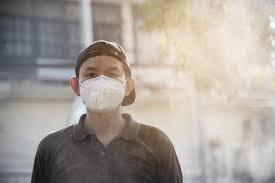cap: (70, 37, 135, 83)
mask: (79, 75, 124, 115)
